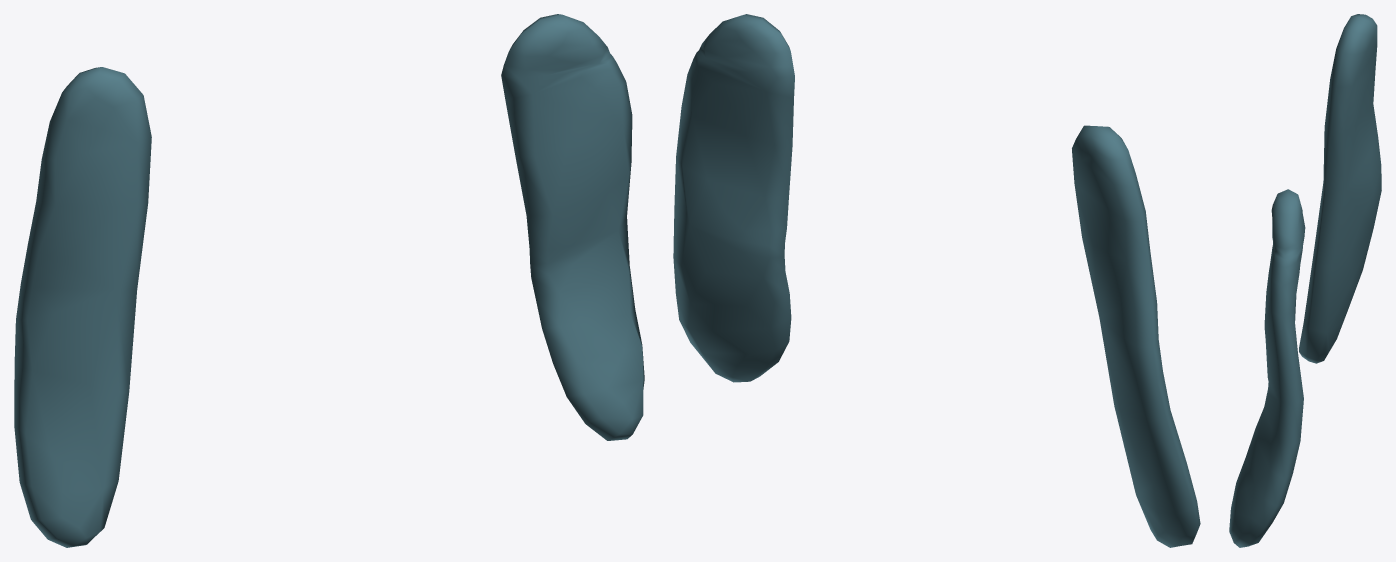
File: Flexor_digitorum_superficialis-middle_phalanx_of_3d_finger.r_Ge.glb
3 renders of one model, left to right at view 1: azimuth 30°, elevation 25°; view 2: azimuth 150°, elevation 25°; view 3: azimuth 270°, elevation 25°, orthographic. The views are drawn at different scales.
Visible parts, largest first — view 1: Flexor_digitorum_superficialis-middle_phalanx_of_3d_finger.r; view 2: Flexor_digitorum_superficialis-middle_phalanx_of_3d_finger.r; view 3: Flexor_digitorum_superficialis-middle_phalanx_of_3d_finger.r.
Part boxes in pixels (x1,y1,x2,y2): Flexor_digitorum_superficialis-middle_phalanx_of_3d_finger.r: (14, 14, 644, 547); Flexor_digitorum_superficialis-middle_phalanx_of_3d_finger.r: (673, 14, 1200, 547); Flexor_digitorum_superficialis-middle_phalanx_of_3d_finger.r: (1229, 14, 1381, 547).
Size of the model in its own units: 0.00847 by 0.00622 by 0.00236.
